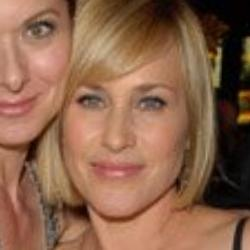face: (57, 2, 220, 228), (1, 1, 69, 161)
